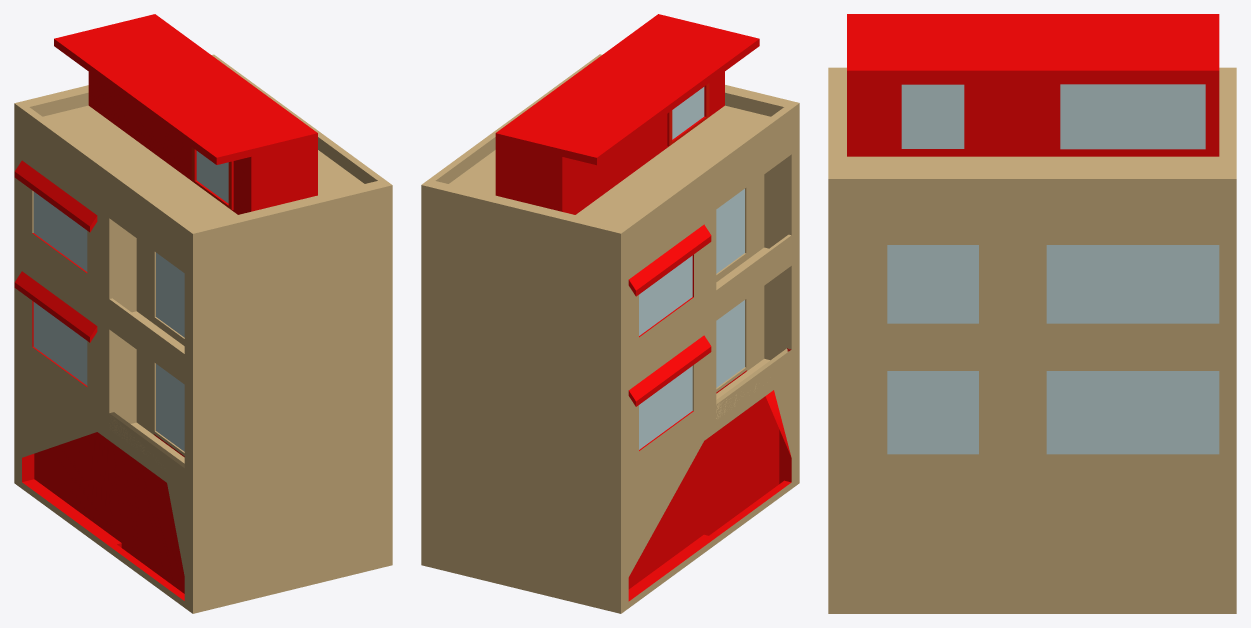
Rendered from Nha cap 4 b.fbx.
The picture shows the model from 3 angles, left to right: view 1: azimuth 30°, elevation 25°; view 2: azimuth 150°, elevation 25°; view 3: azimuth 270°, elevation 25°; orthographic projection. The views are drawn at different scales.
Visible parts, largest first — view 1: Hotel; view 2: Hotel; view 3: Hotel.
Part boxes in pixels (x1=…): Hotel: x1=14, y1=14, x2=392, y2=613; Hotel: x1=421, y1=14, x2=799, y2=613; Hotel: x1=828, y1=14, x2=1236, y2=613.
Size of the model in its own units: 438 by 895 by 655.
